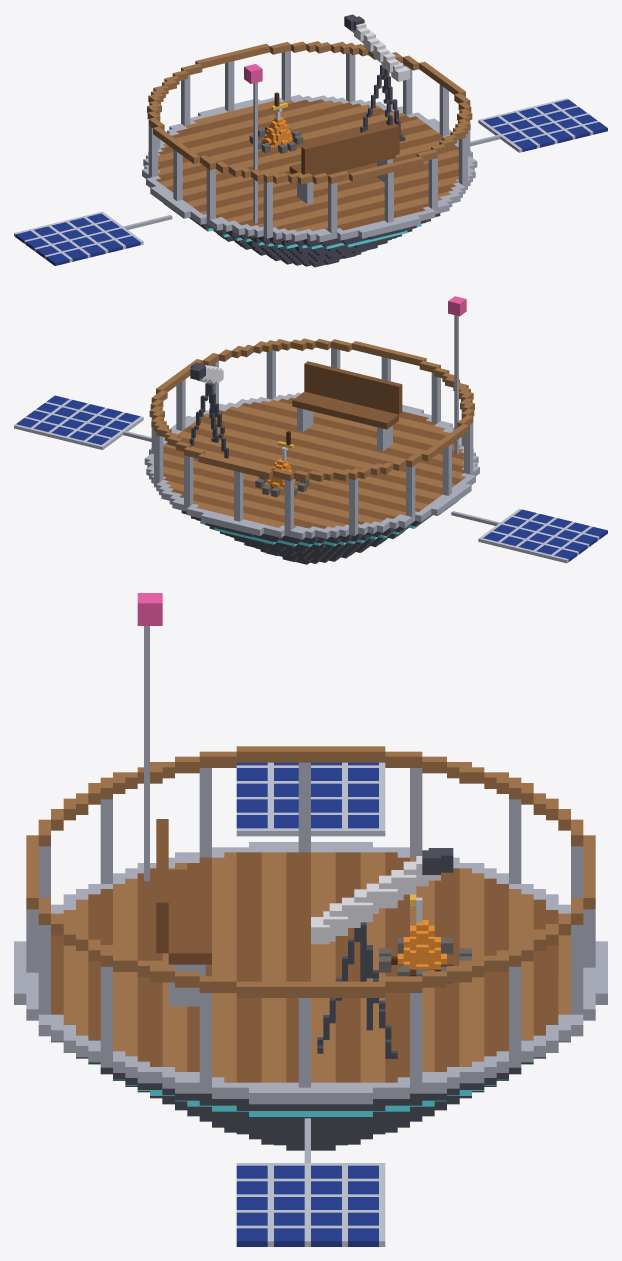
The model's file is mirador.obj.
3 renders of one model, top to bottom at view 1: azimuth 30°, elevation 25°; view 2: azimuth 150°, elevation 25°; view 3: azimuth 270°, elevation 25°, orthographic. The views are drawn at different scales.
Parts seen in each view (by area): view 1: piso_madera_mirador, piso_madera_clara_mirador, pasamanos, postes, panel_panel_solar, orilla, banca, casco, panel_marco_panel, telescopio, tripie_telescopio, baliza_poste (+5 smaller); view 2: piso_madera_clara_mirador, piso_madera_mirador, pasamanos, postes, panel_panel_solar, orilla, banca, panel_marco_panel, casco, tripie_telescopio, banca_patas, baliza_poste (+3 smaller); view 3: piso_madera_mirador, piso_madera_clara_mirador, pasamanos, orilla, postes, panel_panel_solar, casco, panel_marco_panel, banca, telescopio, tripie_telescopio, fuego_mirador (+5 smaller).
Boxes of the visible parts, x1=… form: piso_madera_mirador: x1=156, y1=99, x2=458, y2=230; piso_madera_clara_mirador: x1=158, y1=100, x2=458, y2=231; pasamanos: x1=147, y1=41, x2=472, y2=184; postes: x1=148, y1=50, x2=470, y2=233; panel_panel_solar: x1=15, y1=99, x2=607, y2=265; orilla: x1=142, y1=94, x2=477, y2=242; banca: x1=289, y1=124, x2=399, y2=175; casco: x1=163, y1=203, x2=440, y2=267; panel_marco_panel: x1=14, y1=98, x2=598, y2=262; telescopio: x1=351, y1=23, x2=409, y2=81; tripie_telescopio: x1=360, y1=65, x2=405, y2=141; baliza_poste: x1=253, y1=82, x2=257, y2=223; piso_madera_clara_mirador: x1=163, y1=399, x2=465, y2=527; piso_madera_mirador: x1=163, y1=397, x2=463, y2=528; pasamanos: x1=149, y1=338, x2=474, y2=481; postes: x1=151, y1=348, x2=473, y2=530; panel_panel_solar: x1=16, y1=395, x2=607, y2=561; orilla: x1=144, y1=392, x2=479, y2=539; banca: x1=292, y1=361, x2=402, y2=429; panel_marco_panel: x1=14, y1=399, x2=599, y2=563; casco: x1=181, y1=501, x2=457, y2=564; tripie_telescopio: x1=188, y1=382, x2=228, y2=458; banca_patas: x1=297, y1=407, x2=392, y2=451; baliza_poste: x1=454, y1=315, x2=458, y2=454; piso_madera_mirador: x1=51, y1=852, x2=558, y2=1082; piso_madera_clara_mirador: x1=63, y1=852, x2=570, y2=1082; pasamanos: x1=26, y1=746, x2=595, y2=997; orilla: x1=14, y1=842, x2=607, y2=1104; postes: x1=26, y1=762, x2=595, y2=1087; panel_panel_solar: x1=236, y1=762, x2=378, y2=1246; casco: x1=51, y1=1041, x2=570, y2=1150; panel_marco_panel: x1=236, y1=762, x2=385, y2=1246; banca: x1=156, y1=819, x2=211, y2=964; telescopio: x1=311, y1=856, x2=440, y2=944; tripie_telescopio: x1=317, y1=922, x2=397, y2=1058; fuego_mirador: x1=397, y1=920, x2=446, y2=969.
Size of the model in its own units: 9.35 by 3.9 by 4.8.
